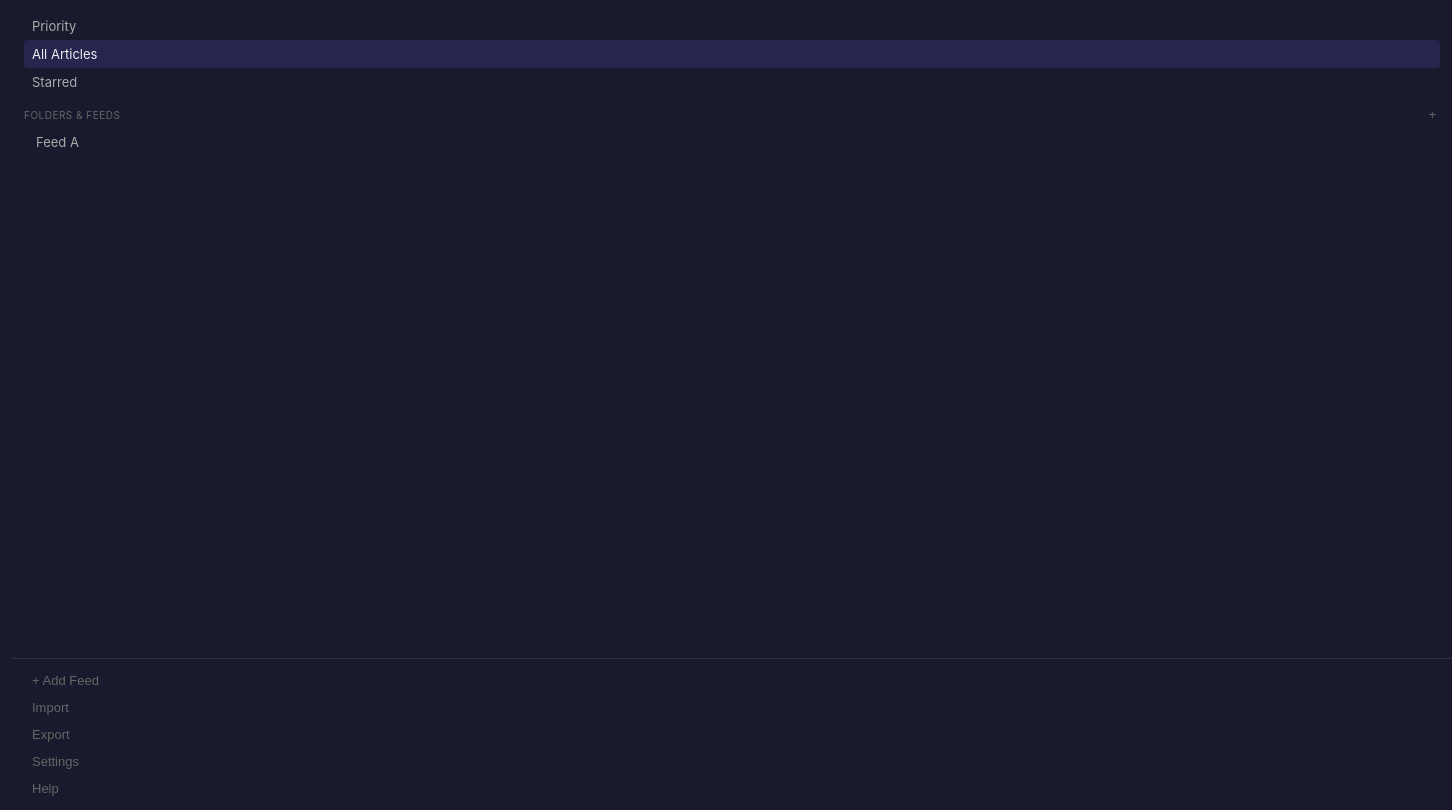
Scenario: FeedPanel Priority smart view › clickingPriorityNavigates
Click the element showing "Priority" at coordinates (54, 26), box [32, 18, 76, 34]
(page scrolled)
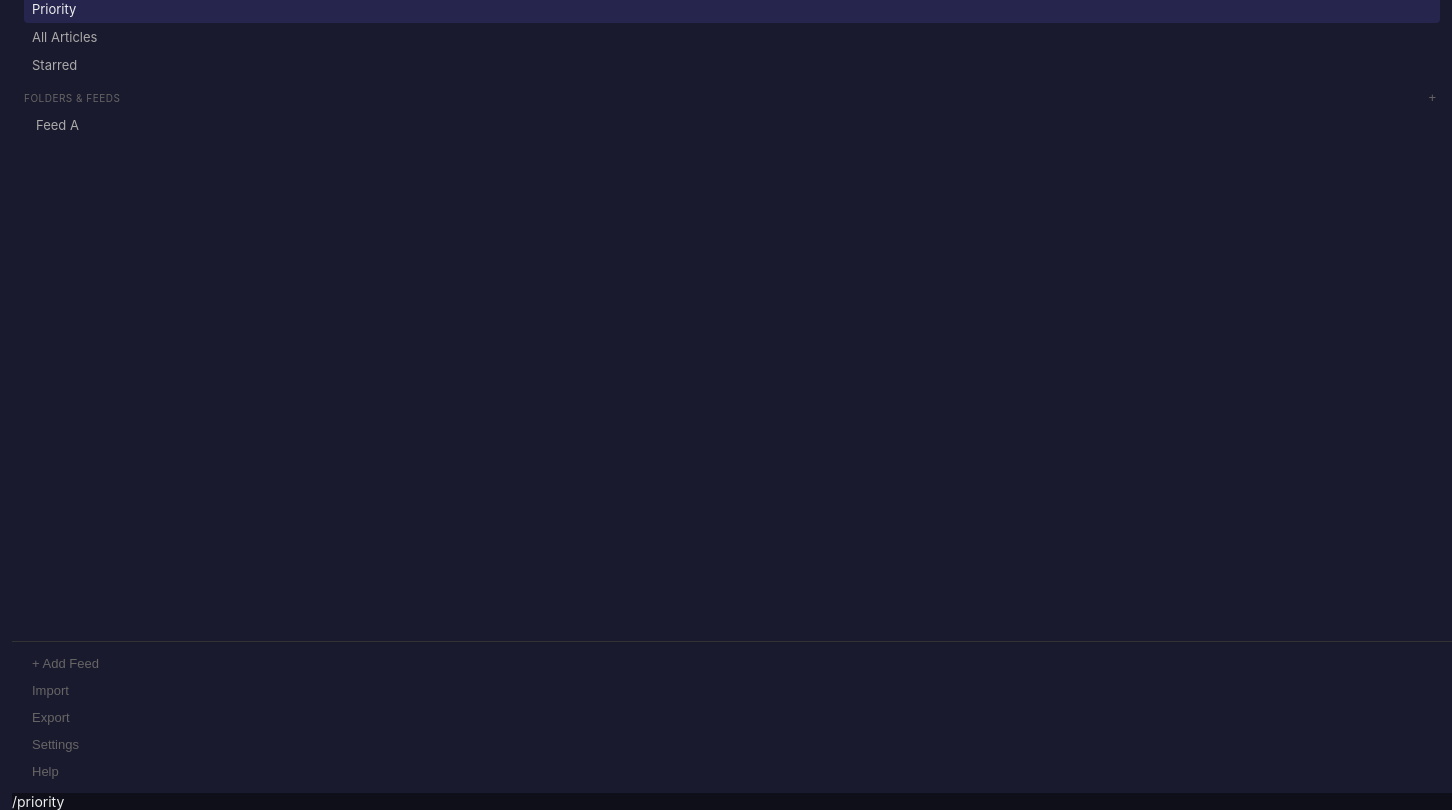
Check: the text with test id "location" reads "/priority", box [12, 793, 64, 809]
